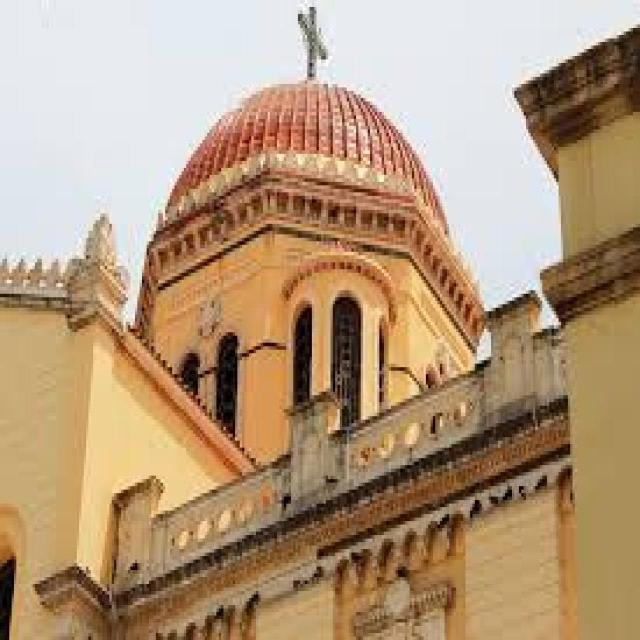Agios Minas: (2, 1, 640, 640)
